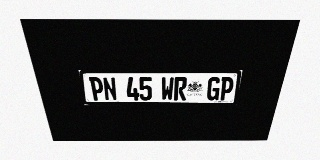4: (125, 77, 139, 100)
5: (139, 77, 152, 100)
G: (206, 77, 221, 100)
N: (102, 77, 117, 101)
P: (89, 77, 105, 101), (219, 77, 235, 100)
R: (174, 77, 187, 100)
W: (161, 77, 174, 100)
